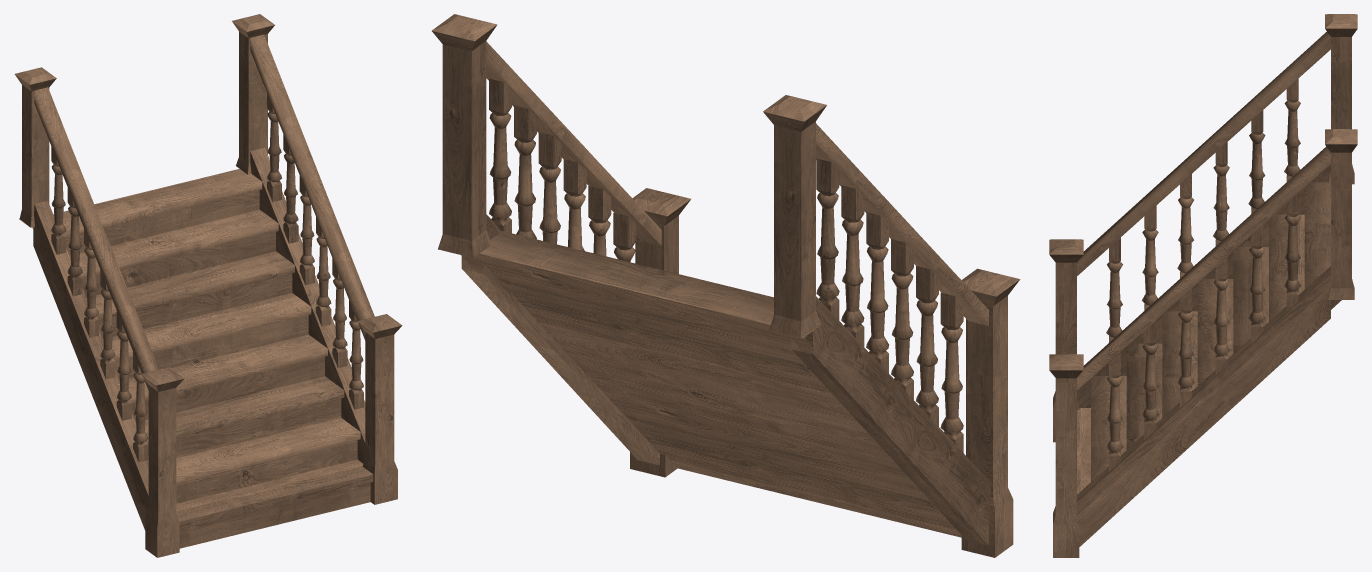
File: StairsInt2x2-1A-bottomless.fbx
The picture shows the model from 3 angles, left to right: view 1: azimuth 30°, elevation 25°; view 2: azimuth 150°, elevation 25°; view 3: azimuth 270°, elevation 25°; orthographic projection. The views are drawn at different scales.
Visible parts, largest first — view 1: StairsInt2x2-1A-bottomless, StairsInt2x2-1A-bottomless-LeftRailing, StairsInt2x2-1A-bottomless-RightRailing; view 2: StairsInt2x2-1A-bottomless, StairsInt2x2-1A-bottomless-LeftRailing, StairsInt2x2-1A-bottomless-RightRailing; view 3: StairsInt2x2-1A-bottomless-RightRailing, StairsInt2x2-1A-bottomless-LeftRailing, StairsInt2x2-1A-bottomless.
Part boxes in pixels (bbox=[...]): StairsInt2x2-1A-bottomless: bbox=[32, 169, 373, 548]; StairsInt2x2-1A-bottomless-LeftRailing: bbox=[14, 67, 184, 557]; StairsInt2x2-1A-bottomless-RightRailing: bbox=[232, 14, 402, 504]; StairsInt2x2-1A-bottomless: bbox=[461, 231, 961, 537]; StairsInt2x2-1A-bottomless-LeftRailing: bbox=[763, 95, 1020, 557]; StairsInt2x2-1A-bottomless-RightRailing: bbox=[432, 14, 690, 477]; StairsInt2x2-1A-bottomless-RightRailing: bbox=[1049, 129, 1357, 557]; StairsInt2x2-1A-bottomless-LeftRailing: bbox=[1049, 14, 1357, 442]; StairsInt2x2-1A-bottomless: bbox=[1077, 182, 1341, 494].
Size of the model in its own units: 217 by 325 by 217.
